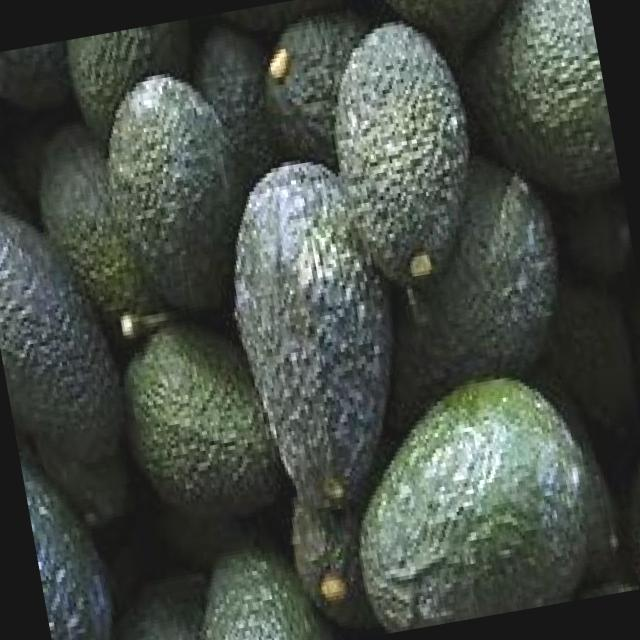avocado: (336, 364, 624, 635), (210, 151, 416, 520), (318, 19, 490, 296), (86, 56, 257, 322)
